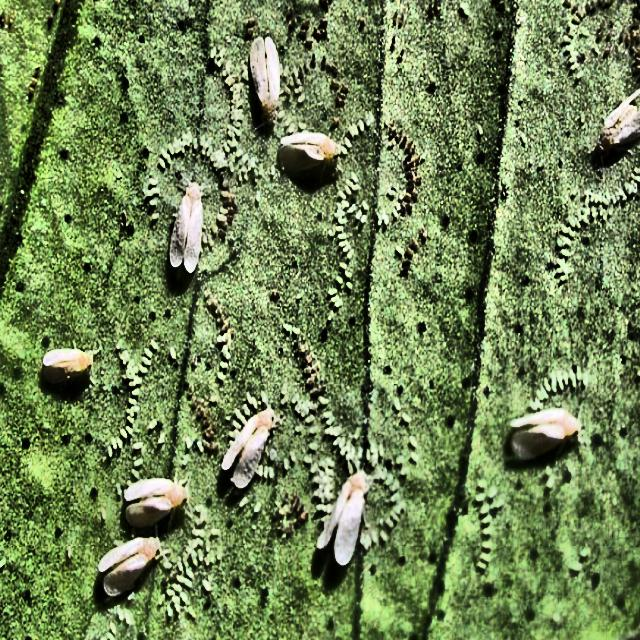egg: (283, 323, 300, 338), (491, 497, 506, 513), (323, 481, 334, 502), (557, 371, 566, 395), (554, 265, 571, 277), (172, 138, 183, 156), (229, 124, 243, 138), (561, 225, 575, 239), (626, 180, 639, 195), (167, 346, 178, 363), (344, 459, 355, 476), (388, 493, 401, 507), (161, 150, 172, 166), (217, 213, 228, 229), (217, 334, 231, 346), (308, 424, 320, 438), (564, 42, 576, 56), (165, 604, 174, 622), (190, 550, 199, 568), (316, 503, 332, 513), (558, 237, 571, 249), (182, 131, 191, 148), (555, 255, 567, 267), (620, 186, 628, 204), (569, 60, 580, 73), (217, 228, 227, 242), (184, 577, 194, 591), (488, 487, 498, 501), (475, 123, 485, 137), (119, 427, 128, 442), (318, 397, 329, 409), (171, 582, 182, 594), (482, 553, 494, 564), (482, 516, 493, 528), (552, 374, 558, 396), (150, 337, 160, 350), (346, 202, 356, 215), (324, 466, 337, 476), (408, 435, 418, 448), (477, 477, 487, 490), (210, 219, 218, 235), (576, 366, 584, 382), (545, 376, 553, 392), (542, 384, 550, 400), (180, 592, 189, 606), (320, 409, 334, 418), (391, 480, 400, 494), (570, 370, 576, 391), (331, 426, 342, 437), (482, 542, 493, 553), (566, 51, 577, 62), (226, 193, 236, 205), (221, 347, 231, 359), (143, 346, 153, 358), (133, 458, 143, 470), (336, 189, 346, 201), (138, 364, 148, 376), (305, 414, 315, 426), (476, 560, 486, 572), (536, 398, 546, 410), (197, 546, 204, 563), (149, 175, 158, 188), (409, 450, 418, 463), (226, 75, 235, 88), (208, 233, 215, 249), (352, 122, 360, 136), (158, 434, 166, 448), (196, 440, 204, 454), (101, 505, 108, 521), (116, 607, 124, 621), (176, 559, 184, 573), (544, 462, 552, 476), (547, 476, 554, 492), (567, 215, 575, 229), (584, 192, 591, 208), (126, 396, 137, 406), (134, 376, 144, 387), (238, 497, 248, 508), (308, 442, 319, 452), (308, 462, 318, 473), (560, 249, 571, 259), (227, 130, 236, 142), (334, 298, 343, 310), (343, 136, 352, 148), (362, 199, 371, 211), (232, 420, 244, 429), (181, 455, 190, 467), (483, 528, 492, 540), (475, 492, 484, 504), (226, 212, 234, 225), (393, 398, 401, 411), (291, 393, 299, 406), (217, 372, 227, 382), (342, 186, 352, 196), (185, 568, 195, 578), (326, 456, 336, 466), (401, 414, 411, 424), (578, 215, 588, 225), (131, 469, 140, 480), (157, 596, 166, 607), (173, 603, 182, 614), (325, 418, 336, 427), (399, 467, 408, 478), (569, 17, 580, 26), (236, 168, 243, 182), (255, 189, 262, 203), (283, 458, 290, 472), (379, 529, 386, 543), (221, 188, 229, 200), (222, 140, 230, 152), (336, 233, 348, 241), (234, 408, 242, 420), (254, 502, 262, 514), (294, 424, 302, 436), (378, 445, 386, 457), (222, 66, 230, 78), (564, 37, 572, 49), (201, 232, 208, 245), (352, 170, 359, 183), (289, 449, 296, 462), (184, 436, 191, 449), (203, 579, 210, 592), (142, 357, 152, 366), (132, 442, 142, 451), (328, 287, 338, 296), (344, 270, 353, 280), (338, 241, 348, 250), (335, 225, 345, 234), (117, 437, 123, 452), (131, 388, 140, 398), (116, 338, 122, 353), (125, 612, 131, 627), (211, 529, 221, 538), (366, 448, 372, 463), (480, 508, 489, 518), (528, 402, 537, 412), (583, 210, 592, 220), (575, 69, 584, 79), (205, 137, 213, 148), (148, 419, 156, 430), (346, 249, 354, 260), (391, 208, 399, 219), (131, 405, 142, 413), (122, 355, 130, 366), (243, 405, 251, 416), (170, 596, 181, 604), (386, 517, 394, 528), (215, 59, 223, 70), (189, 609, 197, 620), (236, 147, 243, 159), (358, 120, 365, 132), (372, 528, 378, 542), (345, 282, 354, 291), (127, 416, 136, 425), (151, 211, 159, 221), (228, 162, 236, 172), (232, 120, 242, 128), (294, 86, 304, 94), (298, 95, 306, 105), (298, 121, 308, 129), (340, 144, 348, 154), (126, 408, 134, 418), (263, 464, 268, 480), (300, 408, 308, 418), (303, 456, 313, 464), (127, 592, 135, 602), (165, 589, 175, 597), (332, 437, 340, 447), (243, 166, 248, 182), (611, 194, 619, 204), (348, 125, 354, 138), (377, 215, 383, 228), (364, 114, 370, 127), (252, 397, 258, 410), (257, 464, 263, 477), (268, 466, 274, 479), (358, 445, 364, 458), (210, 46, 216, 59), (574, 218, 580, 231), (236, 99, 243, 110), (218, 362, 229, 369), (245, 393, 252, 404), (281, 395, 288, 406), (177, 573, 184, 584), (152, 187, 161, 195), (159, 159, 165, 171), (228, 206, 237, 214), (269, 165, 275, 177), (329, 295, 338, 303), (352, 184, 361, 192), (126, 425, 132, 437), (323, 427, 332, 435), (391, 509, 397, 521), (288, 75, 294, 87), (293, 65, 299, 77), (596, 194, 604, 203), (565, 28, 574, 36), (220, 205, 227, 215), (336, 276, 343, 286), (355, 210, 362, 220), (112, 437, 117, 451), (127, 381, 137, 388), (205, 555, 210, 569), (360, 213, 366, 224), (110, 623, 116, 634), (339, 437, 345, 448), (219, 47, 225, 58), (144, 190, 152, 198), (230, 140, 238, 148), (119, 352, 127, 360), (560, 274, 568, 282), (149, 199, 158, 206), (344, 245, 351, 254), (240, 416, 247, 425), (339, 448, 346, 457), (169, 142, 173, 157), (200, 134, 205, 146), (278, 110, 284, 120), (396, 246, 402, 256), (584, 374, 589, 386), (202, 143, 206, 157), (288, 124, 295, 132), (339, 262, 347, 269), (108, 445, 112, 459), (192, 529, 200, 536), (296, 78, 304, 85), (182, 558, 188, 567), (565, 372, 569, 385), (347, 179, 352, 189), (384, 216, 389, 226), (193, 138, 197, 150), (206, 148, 212, 156), (118, 483, 122, 495), (538, 391, 543, 399), (592, 193, 596, 203), (381, 210, 385, 218)
whitefly: (316, 472, 366, 566), (221, 409, 275, 489), (99, 538, 160, 597), (509, 409, 579, 460), (124, 478, 187, 528), (168, 184, 202, 274), (595, 89, 639, 157), (277, 131, 338, 178), (249, 36, 280, 122), (42, 349, 93, 384)
